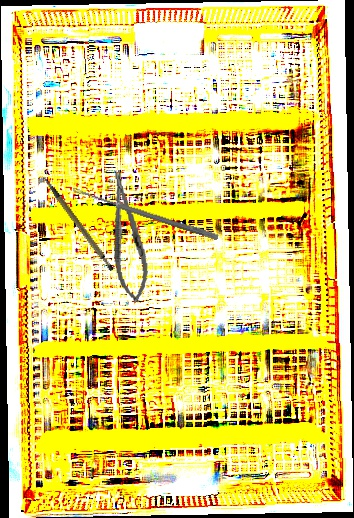Needle Holder: (101, 167, 154, 305)
Scalpel Handle: (42, 167, 116, 279)
Surgical Spoon: (71, 186, 220, 241)
